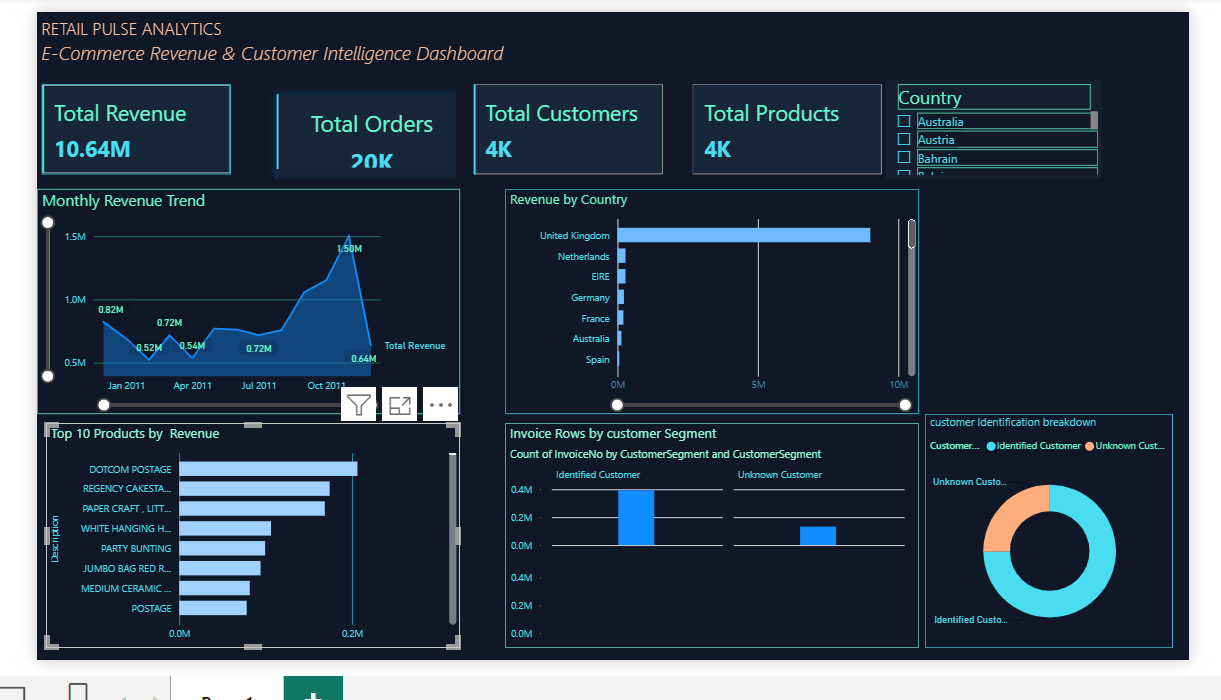

This screenshot's page, from the dashboard's own definition file:
{"tool":"powerbi","page":{"name":"Page 1","canvas":[1280,720],"ordinal":0},"visuals":[{"type":"cardVisual","fields":{"Data":["Ecommerce_Sales_Data (1).Total Revenue"]},"box":[0,74.5,220,110],"z":0},{"type":"lineChart","title":"Monthly Revenue Trend","fields":{"Category":["Ecommerce_Sales_Data (1).YearMonth"],"Y":["Ecommerce_Sales_Data (1).Total Revenue"]},"box":[0,197.1,470,250],"z":1000},{"type":"clusteredBarChart","title":"Top 10 Products by  Revenue","fields":{"Category":["Ecommerce_Sales_Data (1).Description"],"Y":["Ecommerce_Sales_Data (1).Total Revenue"]},"box":[9.7,456.6,460,250],"z":2000},{"type":"clusteredColumnChart","title":"Invoice Rows by customer Segment","fields":{"Rows":["Ecommerce_Sales_Data (1).CustomerSegment"],"Category":["Ecommerce_Sales_Data (1).CustomerSegment"],"Y":["CountNonNull(Ecommerce_Sales_Data (1).InvoiceNo)"]},"box":[520,456.7,460,250],"z":3000},{"type":"clusteredBarChart","title":"Revenue by Country","fields":{"Category":["Ecommerce_Sales_Data (1).Country"],"Y":["Ecommerce_Sales_Data (1).Total Revenue"]},"box":[520,196.7,460,250],"z":4000},{"type":"cardVisual","fields":{"Data":["Ecommerce_Sales_Data (1).Total Orders"]},"box":[249.4,74,220,115],"z":5000},{"type":"cardVisual","fields":{"Data":["Ecommerce_Sales_Data (1).Total Customers"]},"box":[479.3,74.5,220,110],"z":6000},{"type":"cardVisual","fields":{"Data":["Ecommerce_Sales_Data (1).Total Products"]},"box":[723.8,74.5,220,110],"z":7000},{"type":"slicer","fields":{"Values":["Ecommerce_Sales_Data (1).Country"]},"box":[944,74.5,240,110],"z":8000},{"type":"textbox","box":[1049,207,150,250],"z":8001},{"type":"textbox","box":[1049,470,150,250],"z":8002},{"type":"textbox","box":[0,0,1184,74],"z":8003},{"type":"donutChart","title":"customer Identification breakdown","fields":{"Category":["Ecommerce_Sales_Data (1).CustomerSegment"],"Y":["CountNonNull(Ecommerce_Sales_Data (1).InvoiceNo)"]},"box":[991.7,456.7,270,250],"z":8004}]}

Visuals, with their boxes on the page's 1280x720 design canvas (x1, y1, x2, y2). These are canvas units, not pixel positions in the 1221x700 screenshot, which may show the page scaled, cropped or inside an application window:
cardVisual - Ecommerce_Sales_Data (1).Total Revenue: bbox=[0, 74, 220, 184]
"Monthly Revenue Trend" lineChart: bbox=[0, 197, 470, 447]
"Top 10 Products by  Revenue" clusteredBarChart: bbox=[10, 457, 470, 707]
"Invoice Rows by customer Segment" clusteredColumnChart: bbox=[520, 457, 980, 707]
"Revenue by Country" clusteredBarChart: bbox=[520, 197, 980, 447]
cardVisual - Ecommerce_Sales_Data (1).Total Orders: bbox=[249, 74, 469, 189]
cardVisual - Ecommerce_Sales_Data (1).Total Customers: bbox=[479, 74, 699, 184]
cardVisual - Ecommerce_Sales_Data (1).Total Products: bbox=[724, 74, 944, 184]
slicer - Ecommerce_Sales_Data (1).Country: bbox=[944, 74, 1184, 184]
textbox: bbox=[1049, 207, 1199, 457]
textbox: bbox=[1049, 470, 1199, 720]
textbox: bbox=[0, 0, 1184, 74]
"customer Identification breakdown" donutChart: bbox=[992, 457, 1262, 707]
